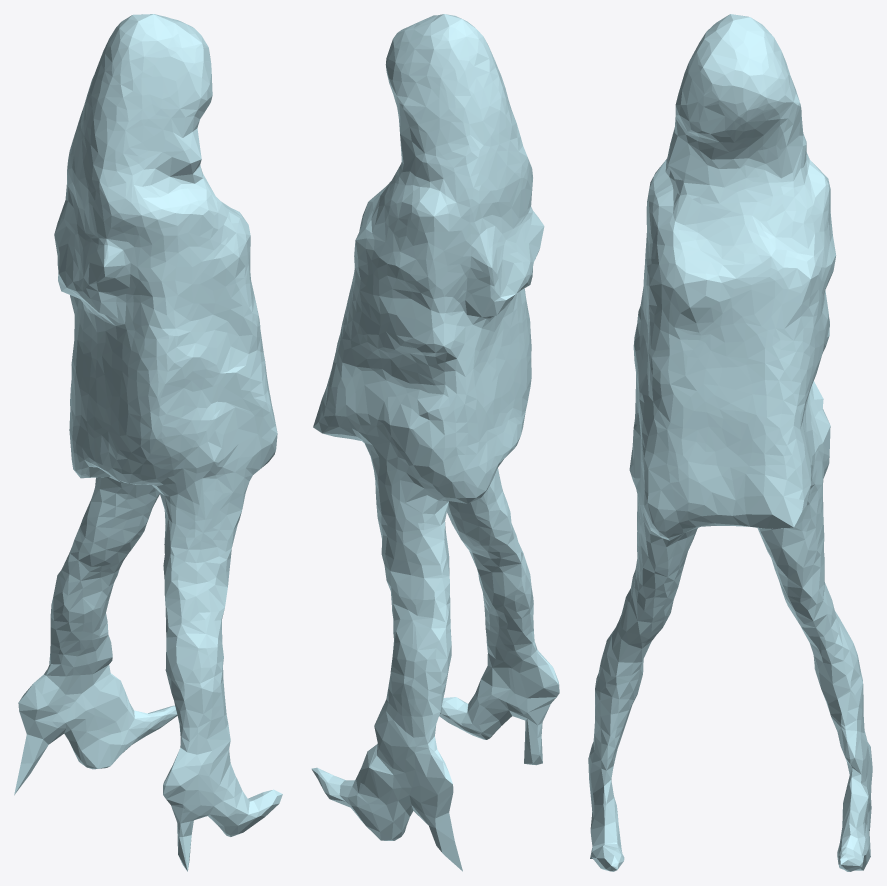
The model's file is girl_A-canny.glb.
3 renders of one model, left to right at view 1: azimuth 30°, elevation 25°; view 2: azimuth 150°, elevation 25°; view 3: azimuth 270°, elevation 25°, orthographic. The views are drawn at different scales.
Parts seen in each view (by area): view 1: extracted_mesh; view 2: extracted_mesh; view 3: extracted_mesh.
Boxes of the visible parts, x1,y1,x2,y2 form: extracted_mesh: (14,14,282,871); extracted_mesh: (311,14,559,871); extracted_mesh: (588,14,872,871).
Size of the model in its own units: 0.2711 by 1.12 by 0.3361.
1 material, 1 textured.
